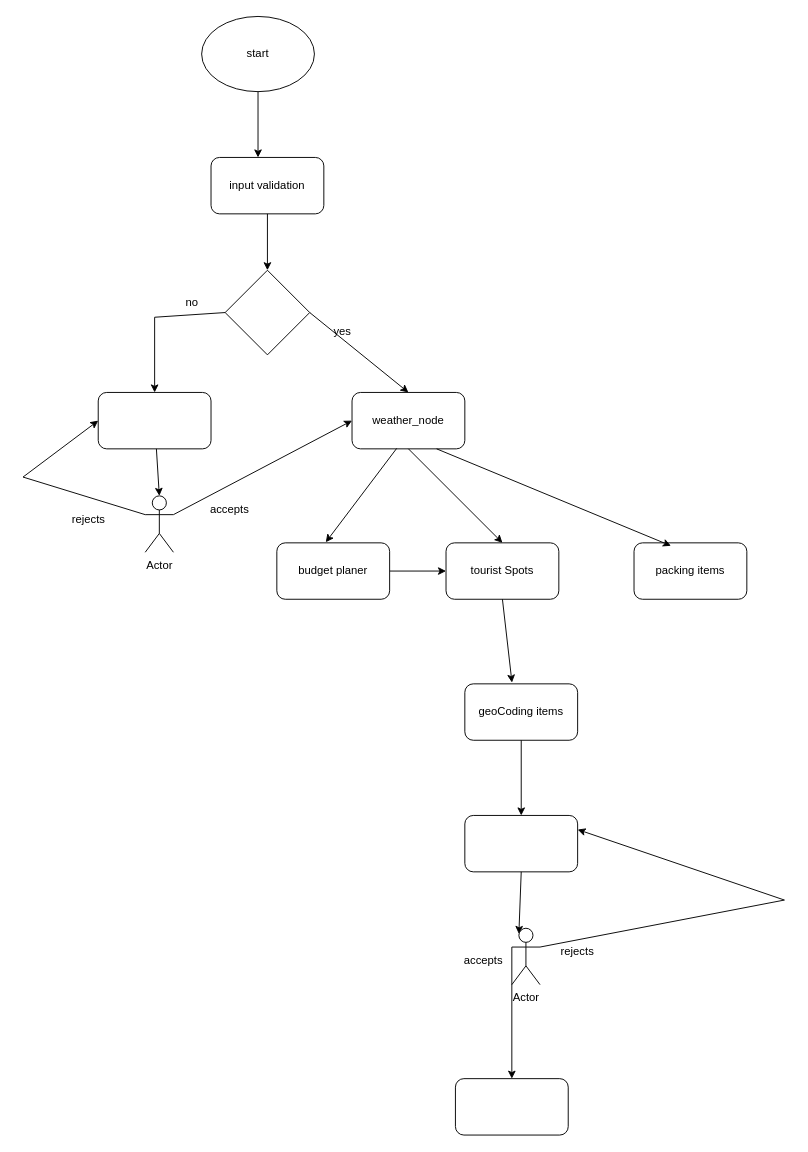
The diagram is 808 pixels wide and 1152 high, and some of its shapes have lost their labels. The box of each missing label's shape, as (x1, y1, x2, y2) in pixels:
final report: (454, 1078, 568, 1135)
if destinations:: (224, 269, 310, 355)
itenenary node: (464, 815, 578, 872)
search_destination: (97, 392, 211, 449)
